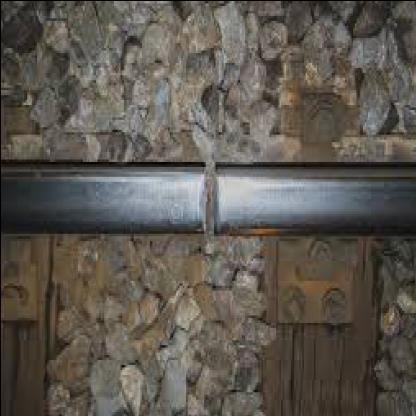Defective 2: (164, 94, 259, 300)
